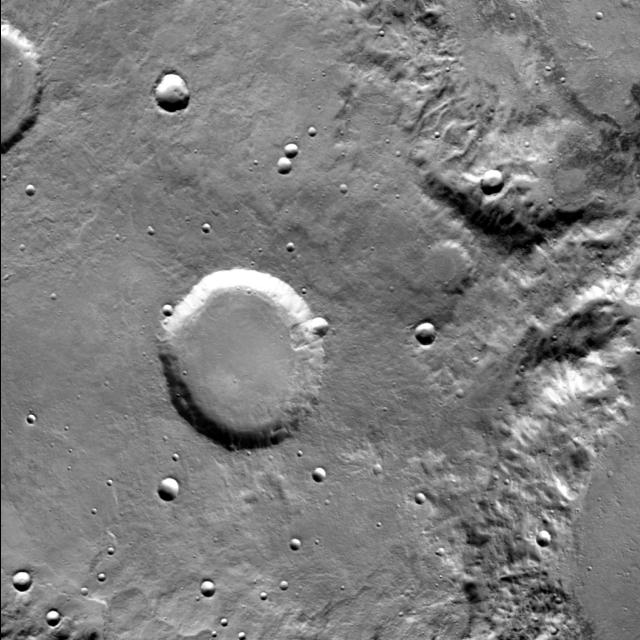crater: (156, 268, 322, 448), (0, 16, 40, 150), (426, 232, 476, 286), (153, 74, 187, 110), (482, 162, 506, 188), (159, 478, 181, 502), (416, 322, 437, 344), (308, 315, 328, 337), (12, 571, 30, 591), (276, 156, 292, 174), (312, 466, 328, 484), (43, 610, 59, 626), (284, 142, 298, 158), (202, 580, 216, 596), (537, 532, 551, 546), (163, 303, 174, 315), (291, 540, 302, 552), (26, 184, 36, 195), (414, 493, 424, 504), (372, 464, 382, 474), (22, 590, 32, 600), (25, 414, 34, 424), (456, 388, 465, 398), (307, 126, 315, 136), (202, 222, 210, 232), (279, 583, 287, 592), (82, 586, 90, 594), (98, 574, 106, 582), (146, 227, 154, 235), (286, 244, 294, 252), (260, 592, 268, 600), (220, 618, 228, 626), (172, 454, 180, 462), (436, 550, 444, 558), (339, 185, 346, 193), (237, 632, 244, 640), (49, 292, 56, 300), (594, 15, 601, 22), (106, 548, 112, 556), (508, 12, 514, 20), (556, 598, 562, 606), (18, 245, 24, 252)
